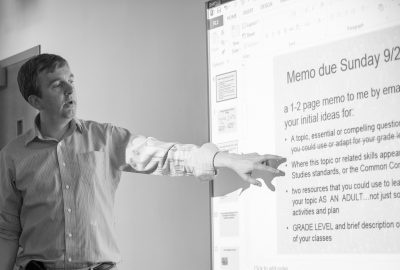pointing_gesture: (227, 151, 283, 187)
